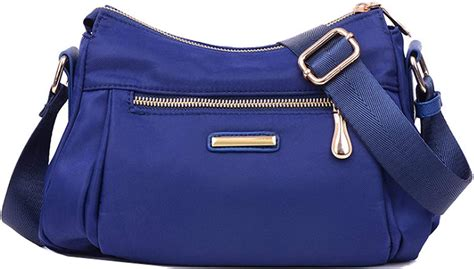nylon: (7, 3, 469, 269)
